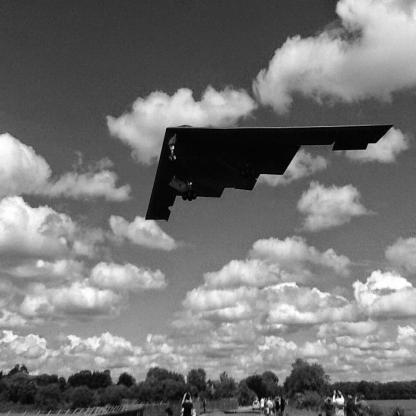B2: (146, 126, 394, 224)
